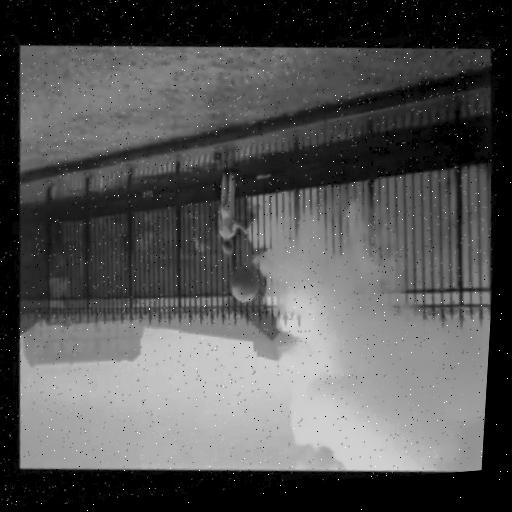balloon: (224, 259, 258, 300)
